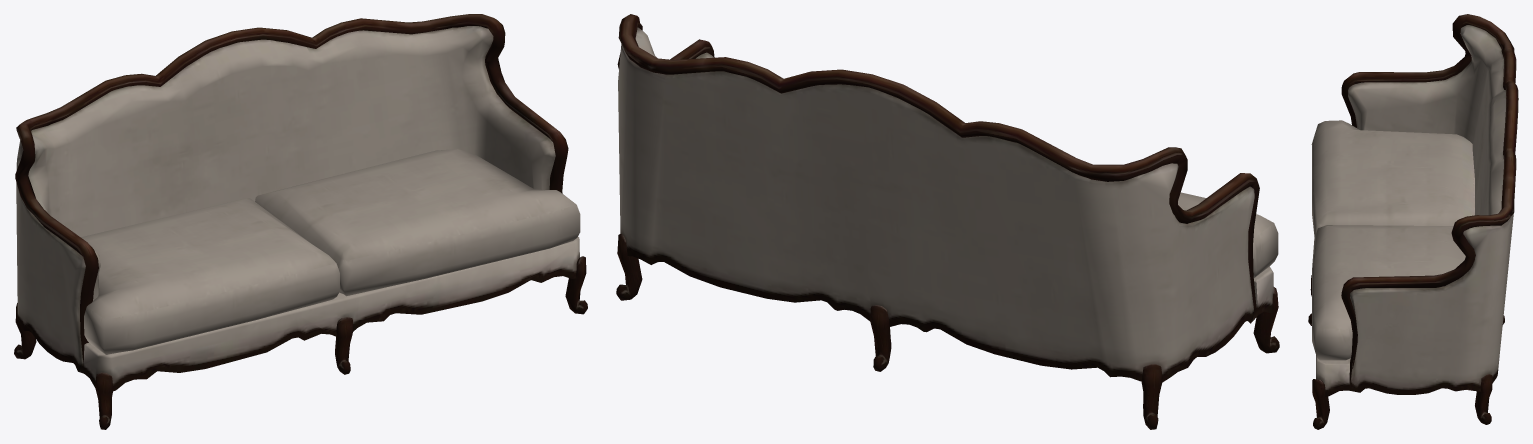
The model's file is sofa_01.glb.
3 renders of one model, left to right at view 1: azimuth 30°, elevation 25°; view 2: azimuth 150°, elevation 25°; view 3: azimuth 270°, elevation 25°, orthographic. The views are drawn at different scales.
Visible parts, largest first — view 1: Sofa_01; view 2: Sofa_01; view 3: Sofa_01.
Boxes of the visible parts, x1=… form: Sofa_01: x1=14, y1=14, x2=587, y2=429; Sofa_01: x1=616, y1=14, x2=1279, y2=429; Sofa_01: x1=1308, y1=14, x2=1518, y2=429.
Size of the model in its own units: 1.57 by 0.7954 by 0.658.
Materials: 1 (1 with a texture image).
